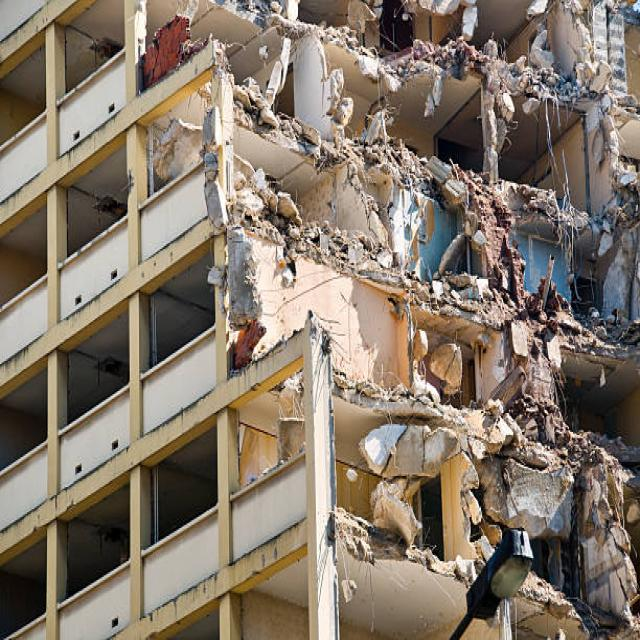Destroyed_building: (107, 1, 640, 640)
